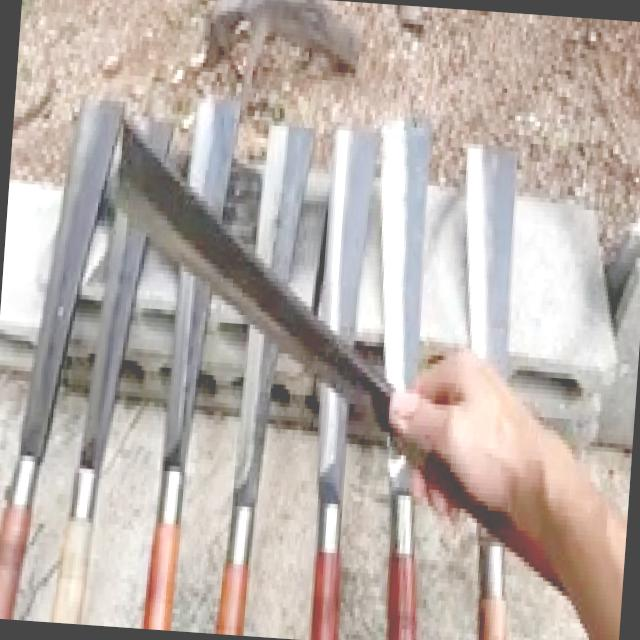eto: (110, 114, 586, 603)
